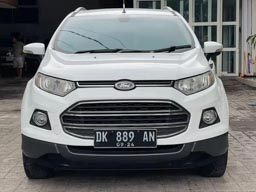plat: (94, 129, 155, 141)
